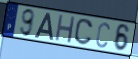6: (112, 24, 132, 53)
9: (18, 8, 37, 38)
A: (33, 12, 54, 42)
C: (73, 18, 94, 47), (95, 21, 111, 49)
H: (54, 13, 77, 44)
